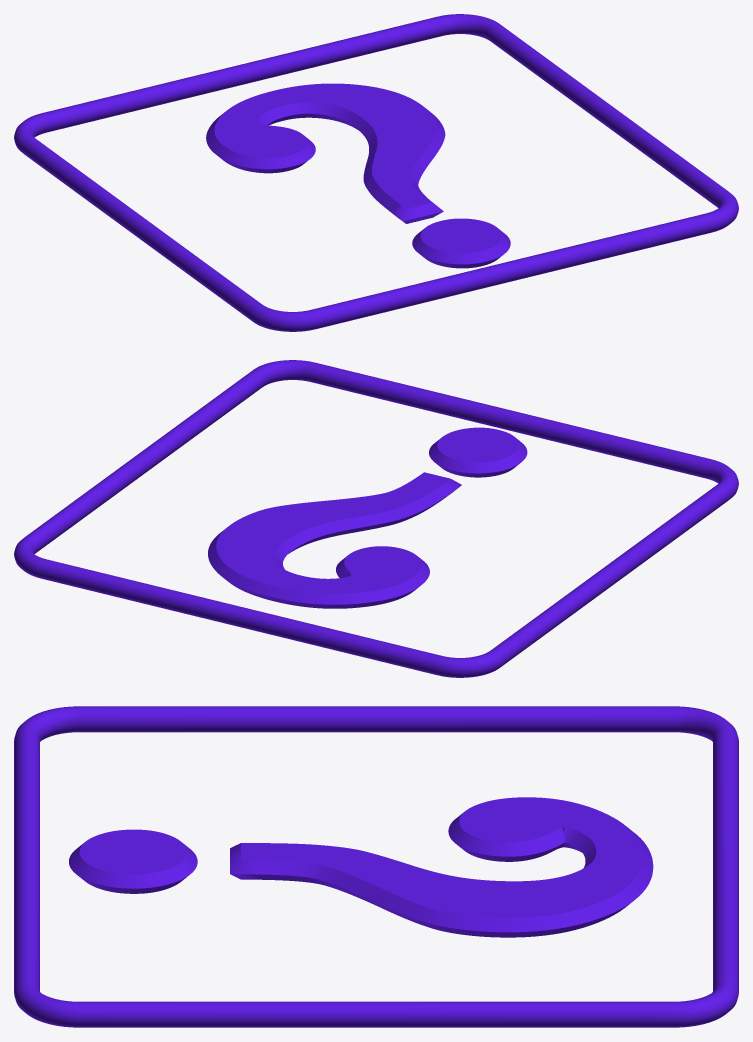
Rendered from Masu_Happening.fbx.
3 views of the same model, one above another, from view 1: azimuth 30°, elevation 25°; view 2: azimuth 150°, elevation 25°; view 3: azimuth 270°, elevation 25° (orthographic). The views are drawn at different scales.
Parts seen in each view (by area): view 1: Torus, Text; view 2: Torus, Text; view 3: Torus, Text.
Boxes of the visible parts, <box> form: Torus: <box>14,14,738,331</box>; Text: <box>206,83,510,268</box>; Torus: <box>14,360,738,677</box>; Text: <box>208,427,527,608</box>; Torus: <box>14,706,738,1027</box>; Text: <box>69,797,653,937</box>.
Size of the model in its own units: 487 by 17.5 by 487.
